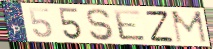5: (57, 7, 83, 41), (27, 7, 54, 39)
E: (112, 8, 148, 42)
M: (170, 10, 209, 45)
S: (85, 7, 117, 42)
Z: (144, 10, 176, 43)
